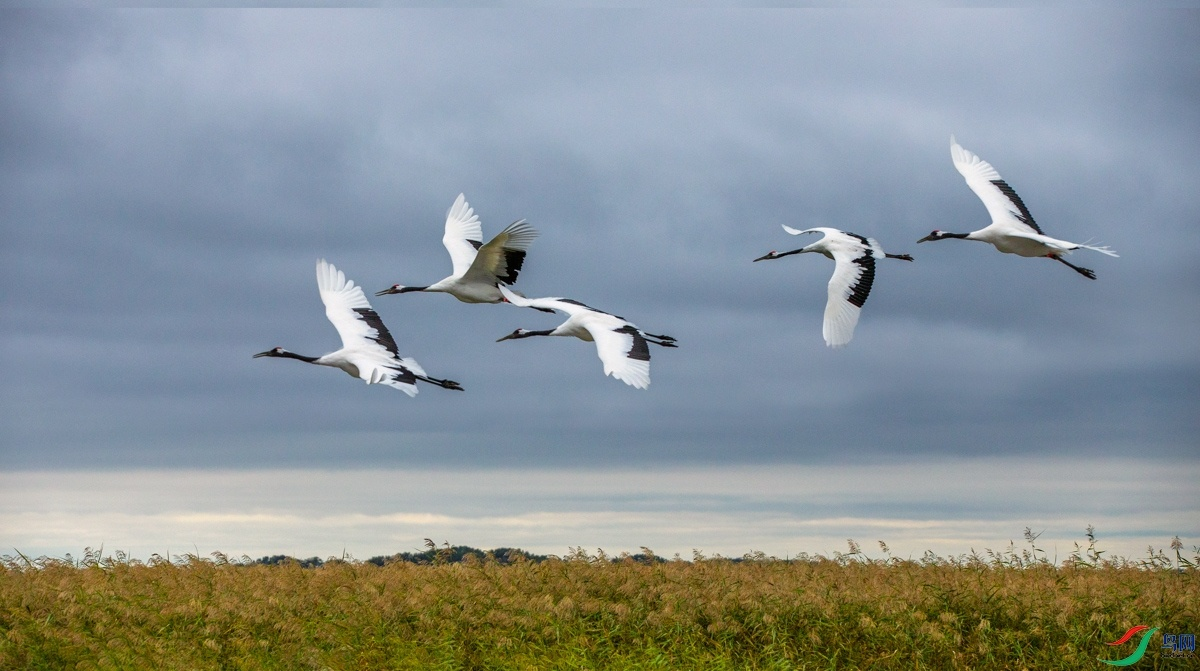bird: (245, 261, 473, 408), (916, 134, 1120, 288), (368, 192, 561, 311), (492, 273, 680, 388), (754, 223, 917, 350)
